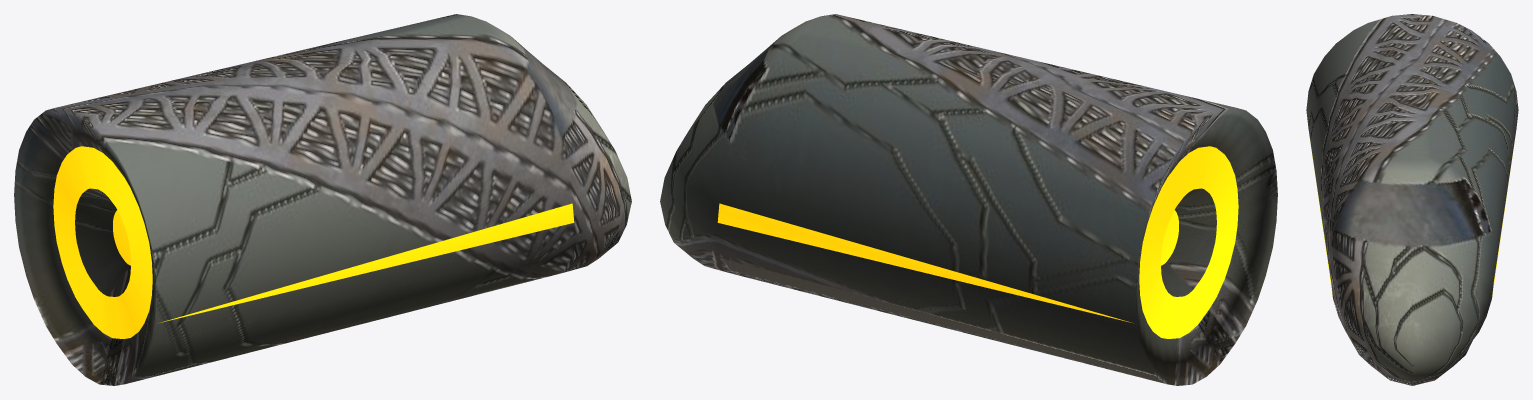
The model's file is floor.03.machine1.gltf.
3 views of the same model, side by side, from view 1: azimuth 30°, elevation 25°; view 2: azimuth 150°, elevation 25°; view 3: azimuth 270°, elevation 25° (orthographic). The views are drawn at different scales.
Parts seen in each view (by area): view 1: floor.03.machine.03; view 2: floor.03.machine.03; view 3: floor.03.machine.03.
Boxes of the visible parts, box(x1,y1,x2,y2) form: floor.03.machine.03: box(14, 14, 631, 385); floor.03.machine.03: box(660, 14, 1277, 385); floor.03.machine.03: box(1306, 14, 1518, 385).
Size of what is drawn, in the model's own units: 8.68 by 4.01 by 4.
2 materials, 1 textured.
